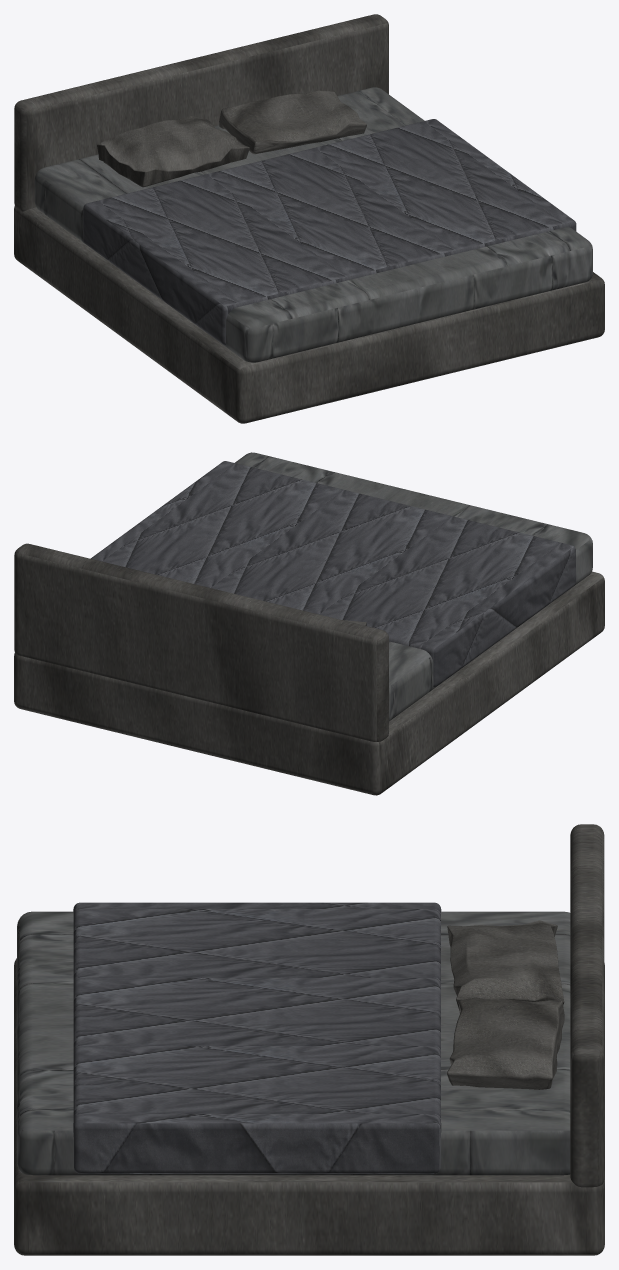
File: T_non.fbx
3 views of the same model, one above another, from view 1: azimuth 30°, elevation 25°; view 2: azimuth 150°, elevation 25°; view 3: azimuth 270°, elevation 25° (orthographic). The views are drawn at different scales.
Parts seen in each view (by area): view 1: Bed_Base, Mattress_Top_Layer, Modern_Mattress, Pillow_Right.001, Pillow_Right; view 2: Bed_Base, Mattress_Top_Layer, Modern_Mattress; view 3: Mattress_Top_Layer, Bed_Base, Modern_Mattress, Pillow_Right, Pillow_Right.001.
Part boxes in pixels (box(x1,y1,x2,y2)): Bed_Base: box(14, 14, 604, 423); Mattress_Top_Layer: box(83, 119, 576, 345); Modern_Mattress: box(34, 87, 592, 362); Pillow_Right.001: box(97, 116, 249, 187); Pillow_Right: box(219, 90, 366, 154); Bed_Base: box(14, 543, 604, 795); Mattress_Top_Layer: box(90, 461, 575, 687); Modern_Mattress: box(235, 452, 592, 721); Mattress_Top_Layer: box(73, 902, 441, 1173); Bed_Base: box(14, 824, 604, 1255); Modern_Mattress: box(17, 911, 570, 1175); Pillow_Right: box(447, 997, 564, 1089); Pillow_Right.001: box(447, 920, 564, 1010).
Size of the model in its own units: 193 by 80.54 by 208.
Materials: 4 (4 with a texture image).
